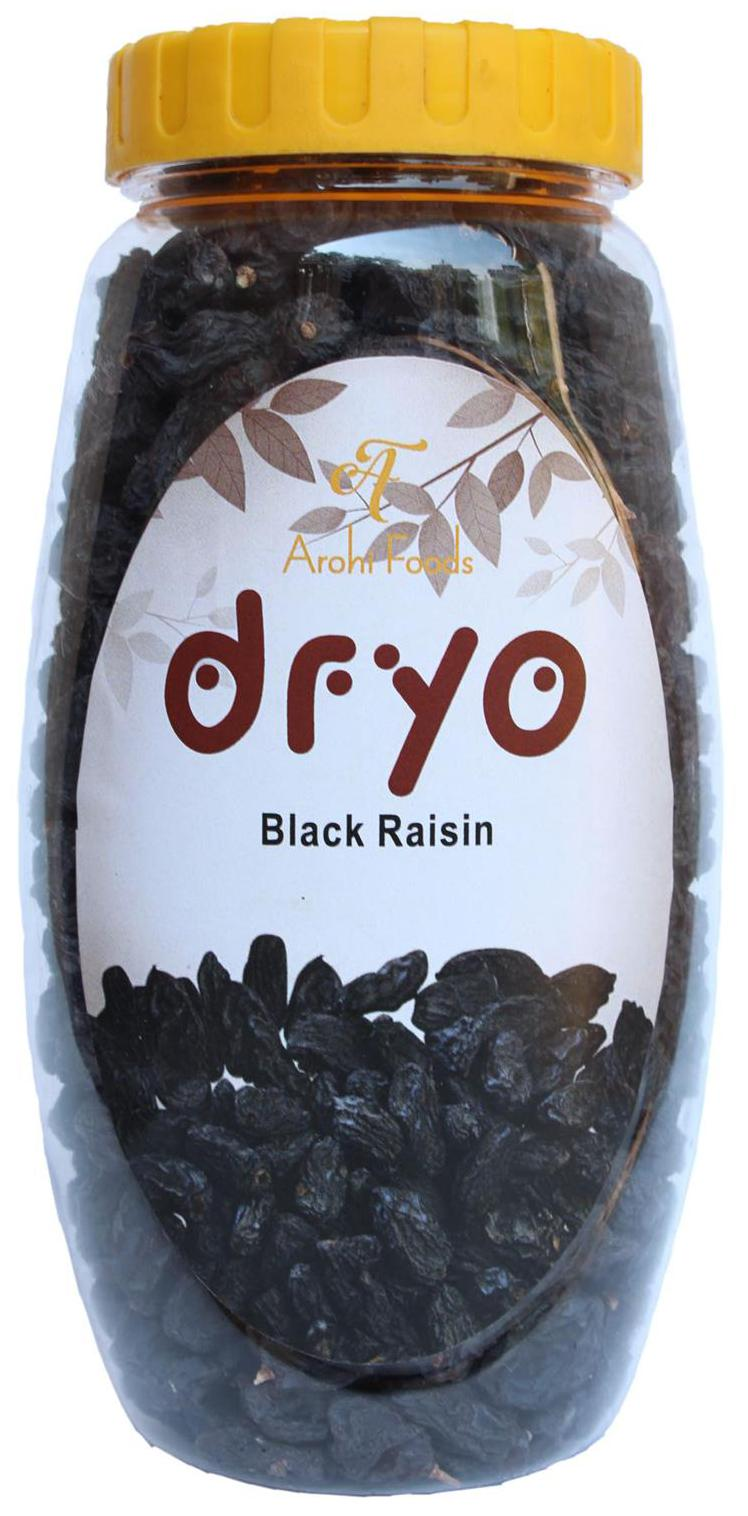JAR: (10, 5, 735, 1511)
